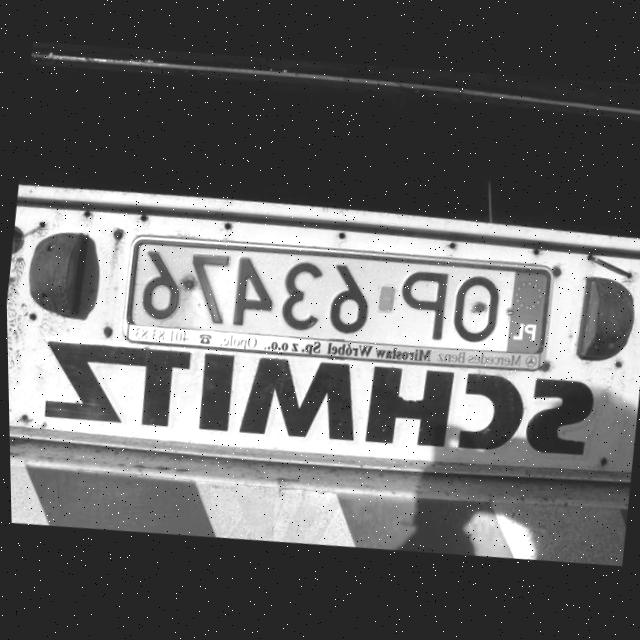license-plates: (125, 238, 549, 368)
